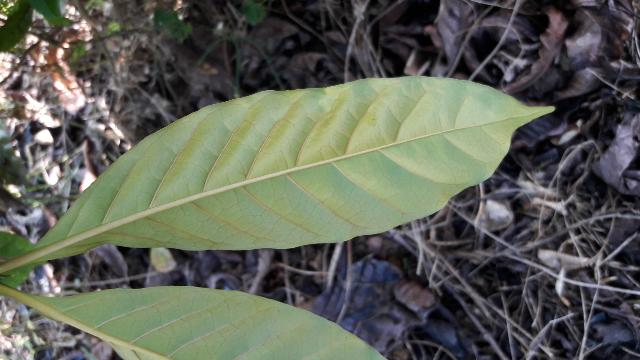healthy: (33, 77, 558, 260)
